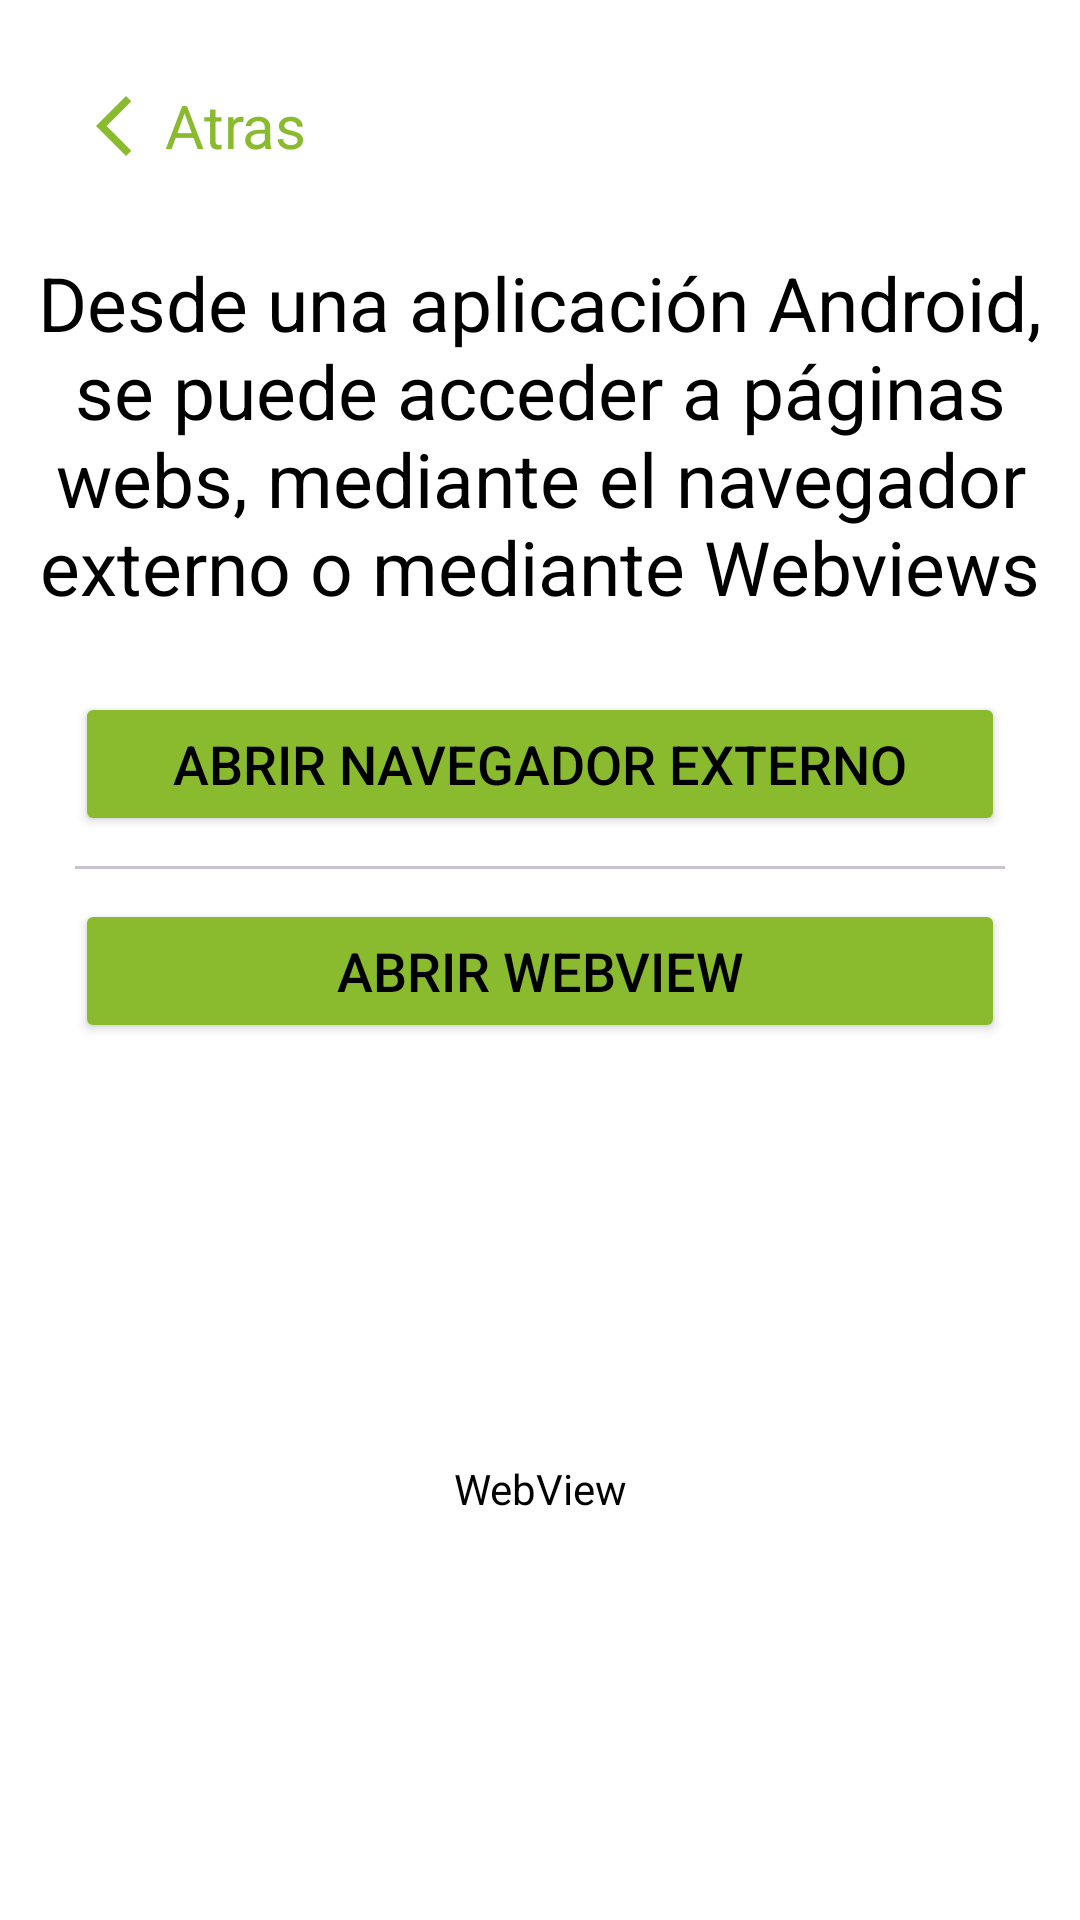

Icon click points for this 1080 x 1920 phone screenshot, format [x,y]:
arrow back: [113,126]
